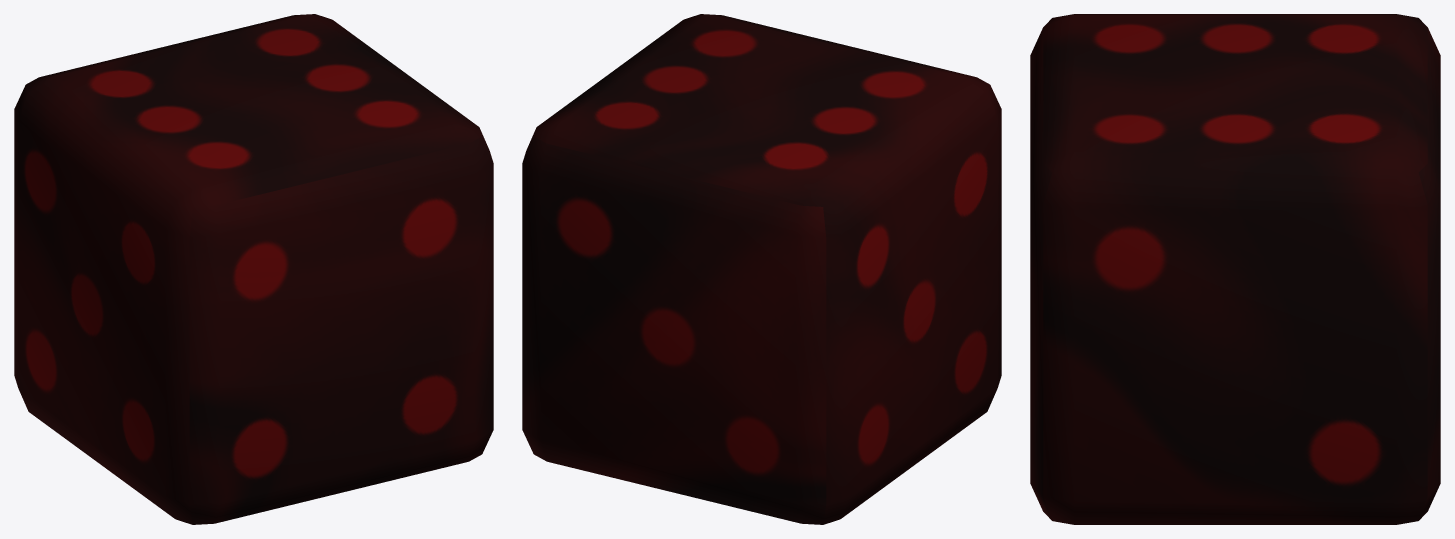
Rendered from defend_dice.glb.
3 views of the same model, side by side, from view 1: azimuth 30°, elevation 25°; view 2: azimuth 150°, elevation 25°; view 3: azimuth 270°, elevation 25° (orthographic). The views are drawn at different scales.
Parts seen in each view (by area): view 1: Object_2; view 2: Object_2; view 3: Object_2.
Boxes of the visible parts, x1,y1,x2,y2 form: Object_2: (14, 14, 493, 524); Object_2: (522, 14, 1001, 524); Object_2: (1030, 14, 1440, 524).
Bounding box in the file's own units: 2 × 2 × 2.
Materials: 1 (1 with a texture image).
